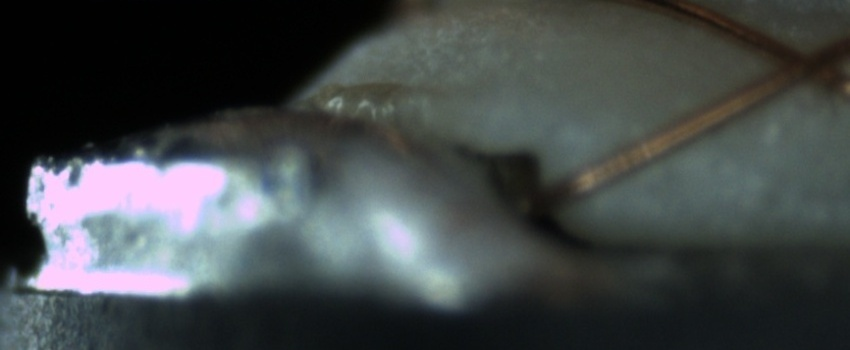CL: (759, 27, 843, 95)
